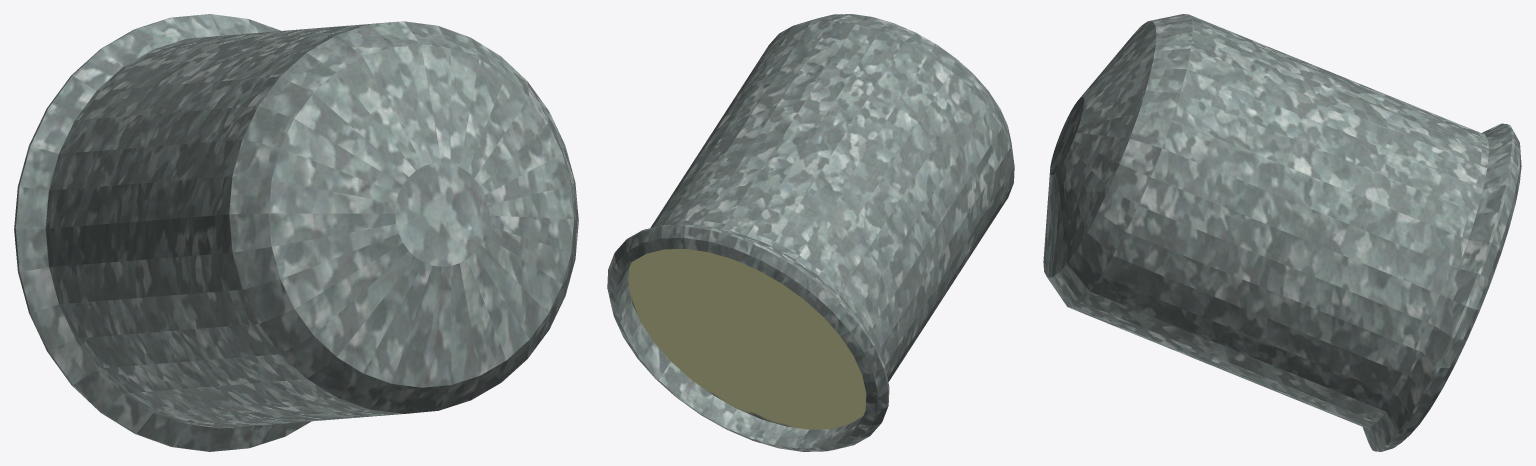
Rendered from towerL.obj.
The picture shows the model from 3 angles, left to right: view 1: azimuth 30°, elevation 25°; view 2: azimuth 150°, elevation 25°; view 3: azimuth 270°, elevation 25°; orthographic projection. The views are drawn at different scales.
Visible parts, largest first — view 1: Cube.001_Cube.002; view 2: Cube.001_Cube.002; view 3: Cube.001_Cube.002.
Boxes of the visible parts, x1,y1,x2,y2 form: Cube.001_Cube.002: [14, 14, 578, 451]; Cube.001_Cube.002: [607, 14, 1014, 451]; Cube.001_Cube.002: [1043, 14, 1521, 451].
Size of the model in its own units: 1.02 by 1.29 by 1.38.
